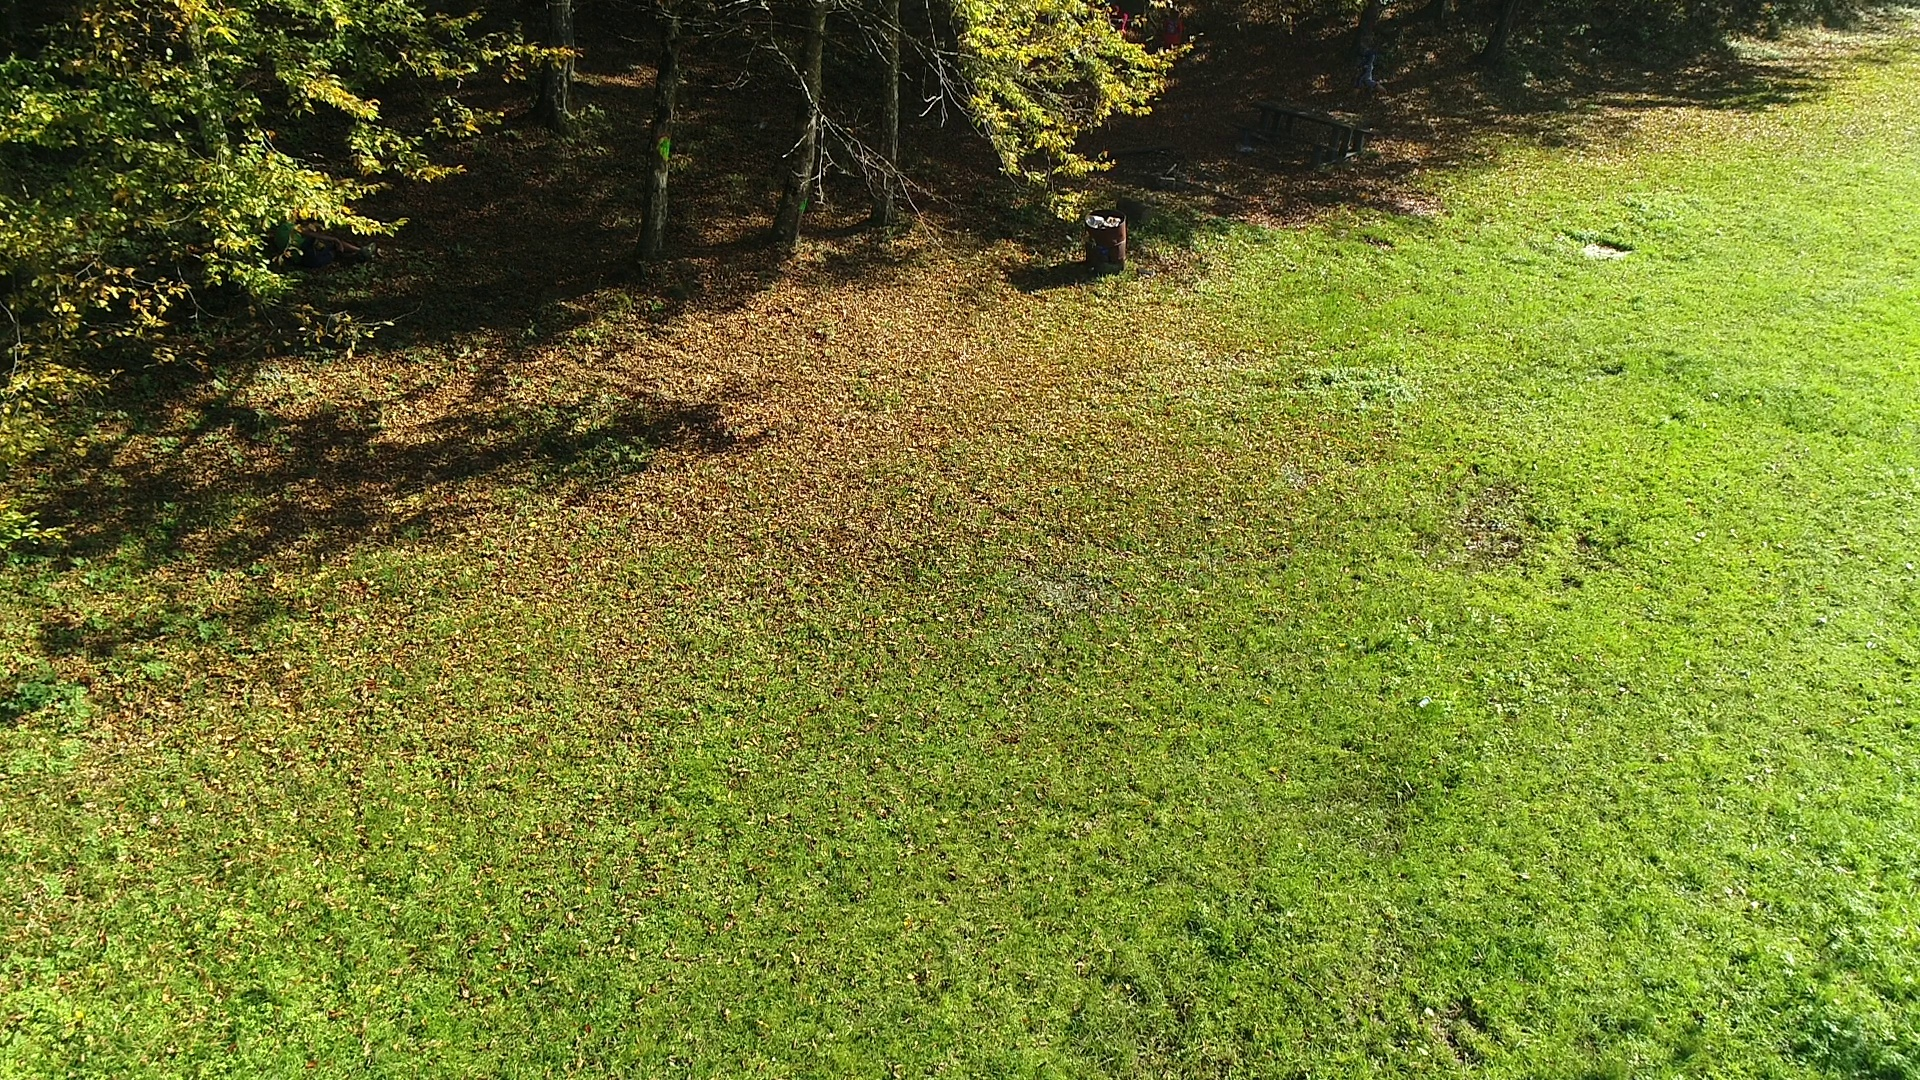person: (276, 208, 377, 262), (1344, 36, 1391, 98), (1160, 5, 1183, 71), (1107, 1, 1132, 39)
